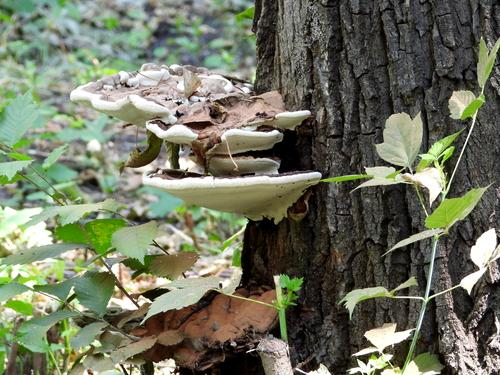Ganoderma - Fruit Body: (67, 60, 305, 155), (147, 160, 321, 226)
